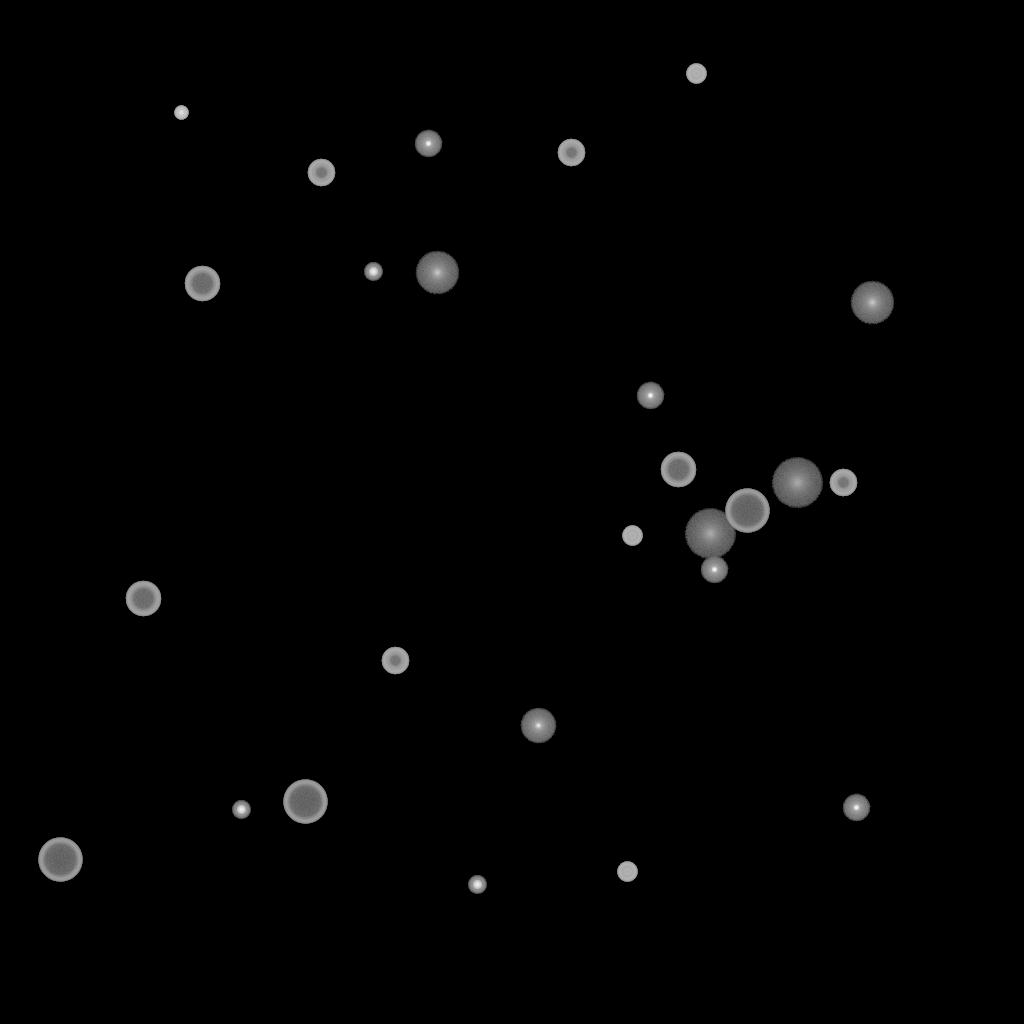depth:-10: (636, 382, 664, 410), (414, 130, 442, 158), (700, 556, 728, 584), (842, 794, 870, 822)
depth:-20: (364, 263, 382, 281), (468, 876, 486, 894), (232, 801, 250, 819)
depth:-30: (174, 106, 188, 120)
depth:-40: (622, 526, 642, 546), (686, 64, 706, 84), (617, 862, 637, 882)
depth:-50: (307, 159, 335, 187), (829, 469, 857, 497), (381, 647, 409, 675), (557, 139, 585, 167)
depth:-60: (184, 266, 220, 302), (125, 581, 161, 617), (660, 452, 696, 488)
depth:-70: (725, 489, 769, 533), (38, 838, 82, 882), (283, 780, 327, 824)
depth:0: (520, 708, 556, 744)
depth:10: (850, 281, 894, 325), (415, 251, 459, 295)
depth:20: (771, 458, 823, 508), (684, 509, 736, 559)
